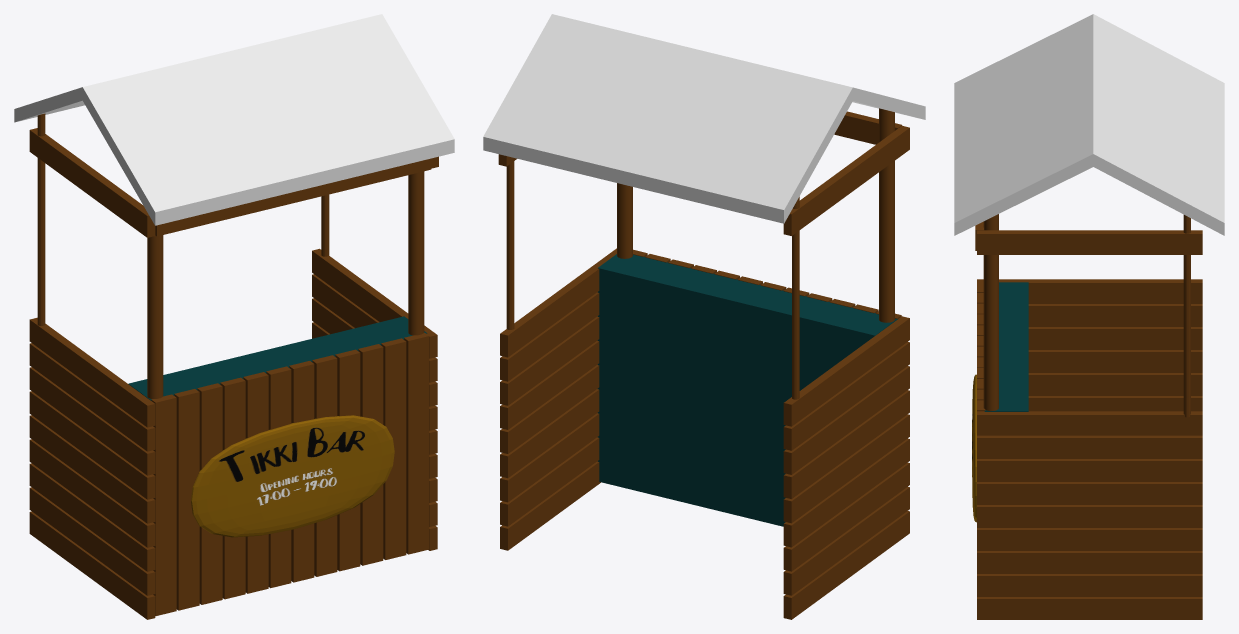
The model's file is Tikkibar.fbx.
The picture shows the model from 3 angles, left to right: view 1: azimuth 30°, elevation 25°; view 2: azimuth 150°, elevation 25°; view 3: azimuth 270°, elevation 25°; orthographic projection. The views are drawn at different scales.
Visible parts, largest first — view 1: Cube.007; view 2: Cube.007; view 3: Cube.007.
Part boxes in pixels (bbox=[...]): Cube.007: bbox=[14, 14, 454, 619]; Cube.007: bbox=[483, 14, 925, 619]; Cube.007: bbox=[954, 14, 1224, 619].
Bounding box in the file's own units: 386 × 603 × 315.
